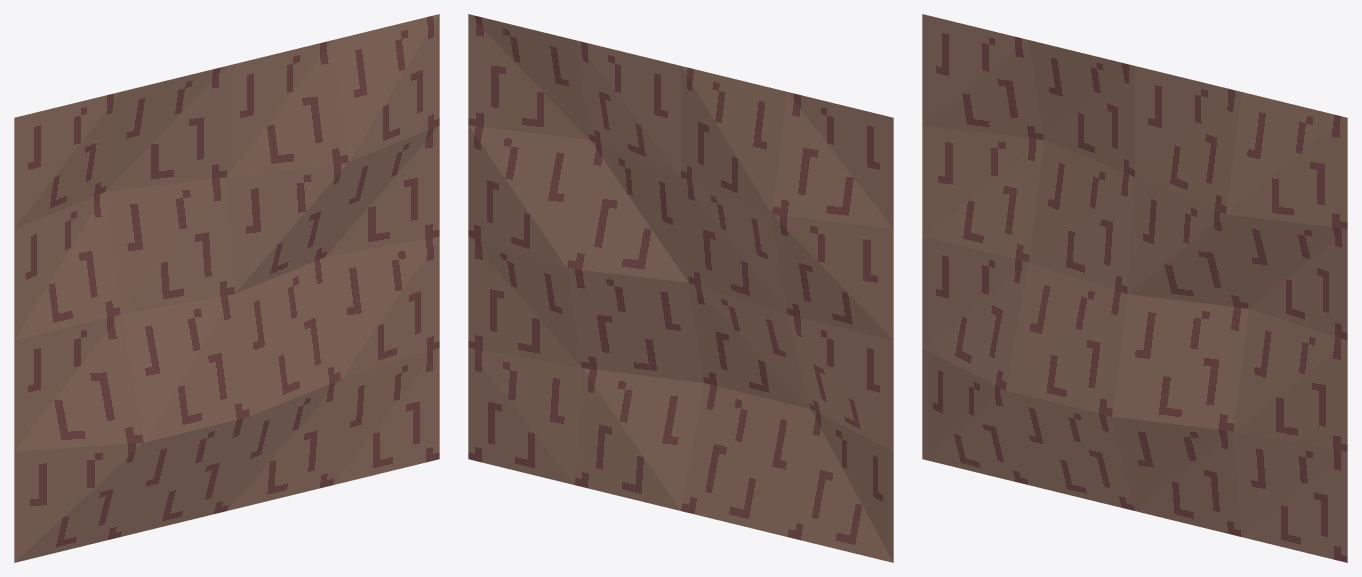
The model's file is Door.gltf.
3 views of the same model, side by side, from view 1: azimuth 30°, elevation 25°; view 2: azimuth 150°, elevation 25°; view 3: azimuth 330°, elevation 25° (orthographic).
Size of the model in its own units: 4 by 4 by 0.625.
Materials: 1 (1 with a texture image).
